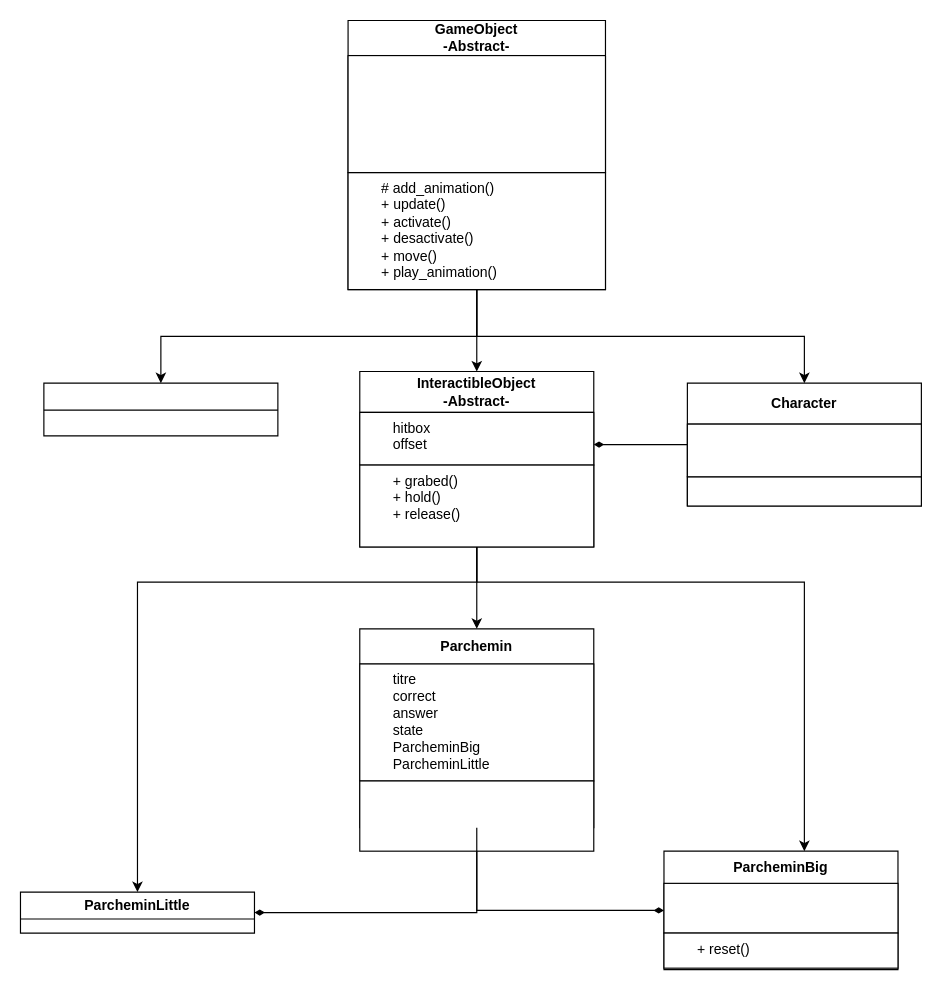
Image size: 942x991. Some labels were removed from this diagram. The shapes that lost their labels are listed below. From the top down, each one's centre as x and y in pixels, then its label:
(x=476, y=113): active (bool) position angle s ize interface animations
(x=160, y=409): FixObject
(x=803, y=450): parchemin timer_get_in
(x=476, y=815): + have_gave_answer() + have_gave_good_answer + reset
(x=780, y=907): Titre Contain
